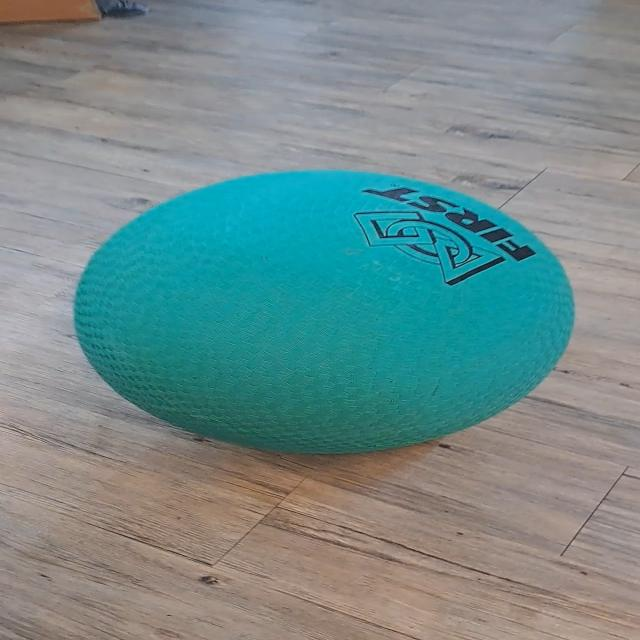ALGAE: (71, 168, 577, 456)
